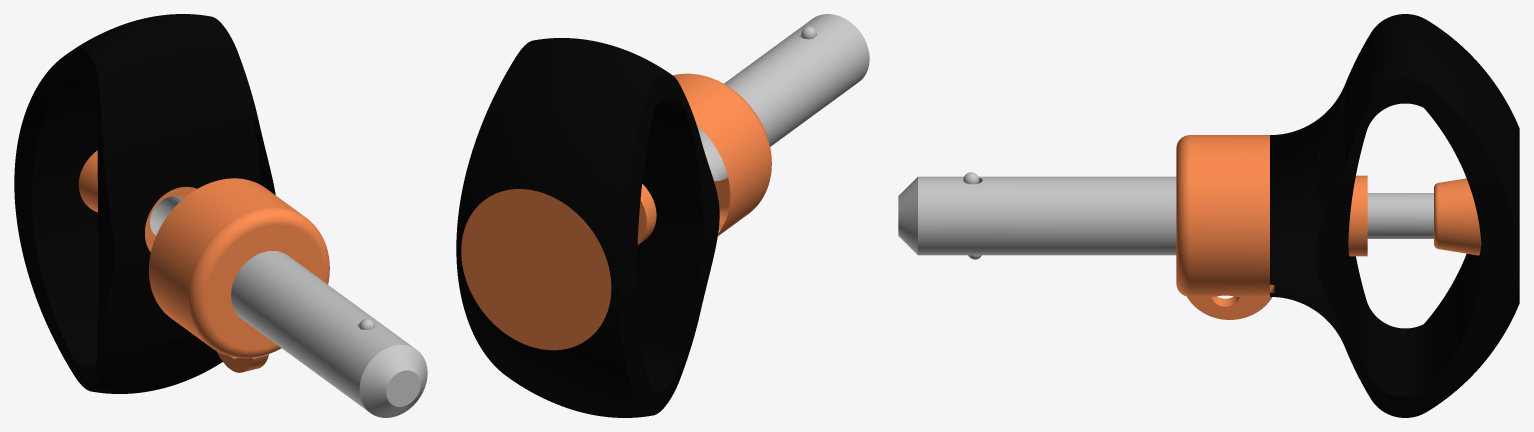
3 renders of one model, left to right at view 1: azimuth 30°, elevation 25°; view 2: azimuth 150°, elevation 25°; view 3: azimuth 270°, elevation 25°, orthographic.
Parts seen in each view (by area): view 1: _IPTH8-20; view 2: _IPTH8-20; view 3: _IPTH8-20.
Boxes of the visible parts, bbox=[...] form: _IPTH8-20: bbox=[14, 14, 427, 417]; _IPTH8-20: bbox=[456, 14, 869, 417]; _IPTH8-20: bbox=[898, 14, 1519, 417].
Bounding box in the file's own units: 19.2 × 41 × 63.
